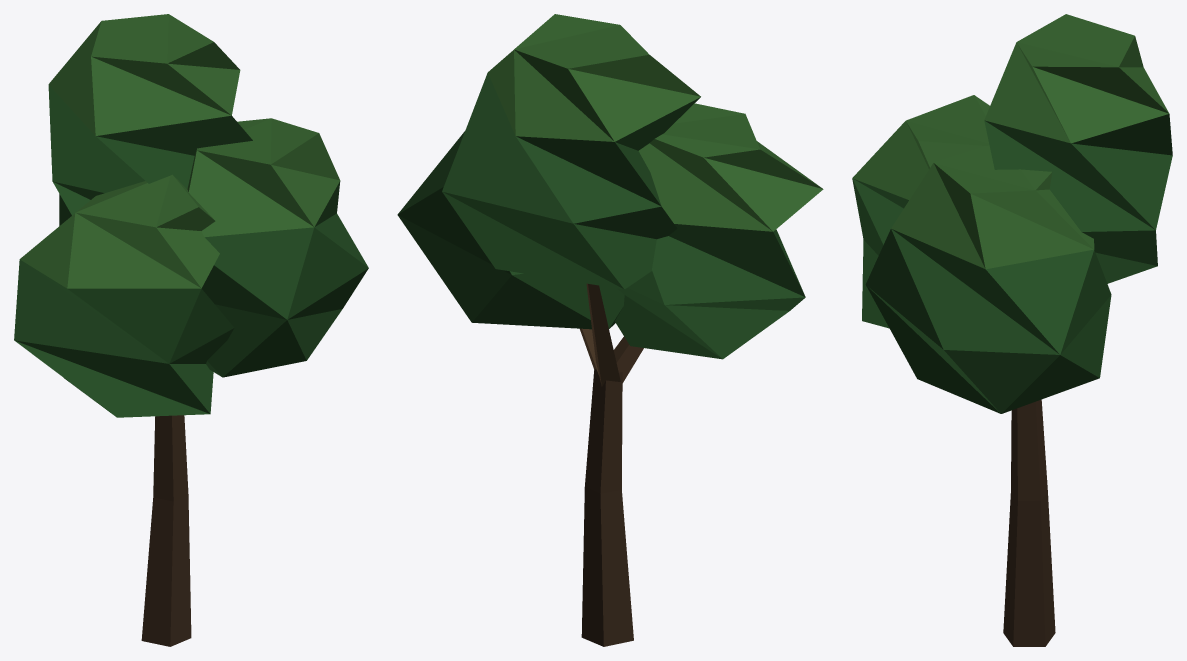
The model's file is tree-broadleaf.glb.
3 views of the same model, side by side, from view 1: azimuth 30°, elevation 25°; view 2: azimuth 150°, elevation 25°; view 3: azimuth 270°, elevation 25° (orthographic). The views are drawn at different scales.
Parts seen in each view (by area): view 1: tree-broadleaf; view 2: tree-broadleaf; view 3: tree-broadleaf.
Boxes of the visible parts, box(x1,y1,x2,y2) form: tree-broadleaf: box(14, 14, 368, 646); tree-broadleaf: box(397, 14, 823, 646); tree-broadleaf: box(852, 14, 1172, 646).
Bounding box in the file's own units: 3.68 × 5.75 × 2.8.
